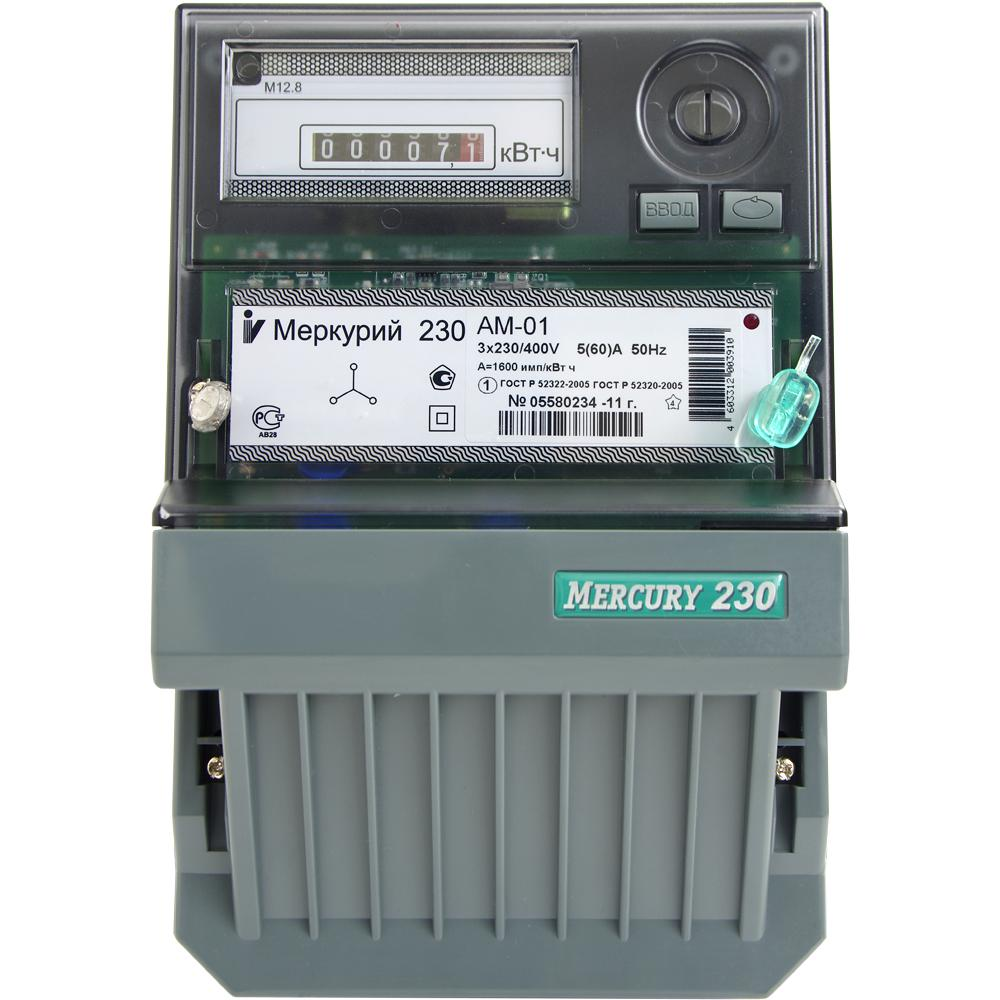counter: (153, 3, 854, 977)
counter_screen: (304, 124, 489, 166)
